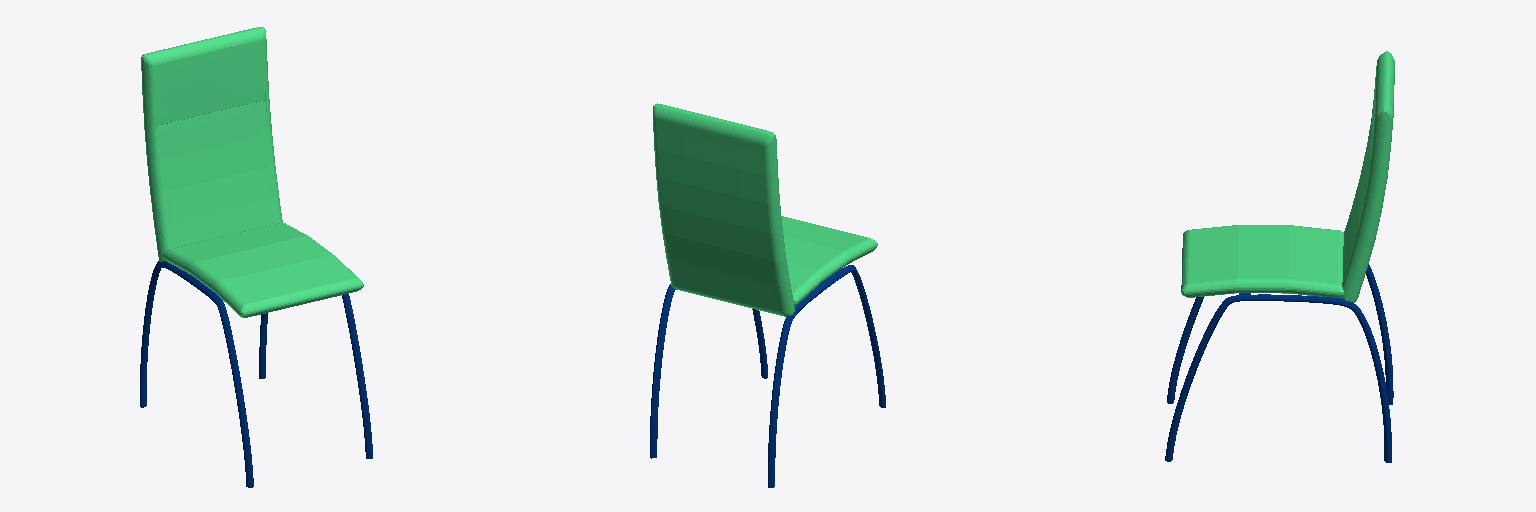
The model's file is chair.obj.
The picture shows the model from 3 angles: view 1: azimuth 30°, elevation 25°; view 2: azimuth 150°, elevation 25°; view 3: azimuth 270°, elevation 25°; orthographic projection.
Visible parts, largest first — view 1: Box002, Box001, Line001; view 2: Box002, Line001, Box001; view 3: Box001, Box002, Line001.
Part boxes in pixels (left/top/right/bottom): Box002: left=141, top=27, right=282, bottom=261; Box001: left=163, top=223, right=363, bottom=317; Line001: left=140, top=261, right=372, bottom=487; Box002: left=653, top=103, right=794, bottom=316; Line001: left=650, top=265, right=885, bottom=487; Box001: left=781, top=216, right=877, bottom=305; Box001: left=1181, top=225, right=1344, bottom=297; Box002: left=1341, top=51, right=1394, bottom=302; Line001: left=1165, top=264, right=1393, bottom=462.
Size of the model in its own units: 28.54 by 75.57 by 44.64.